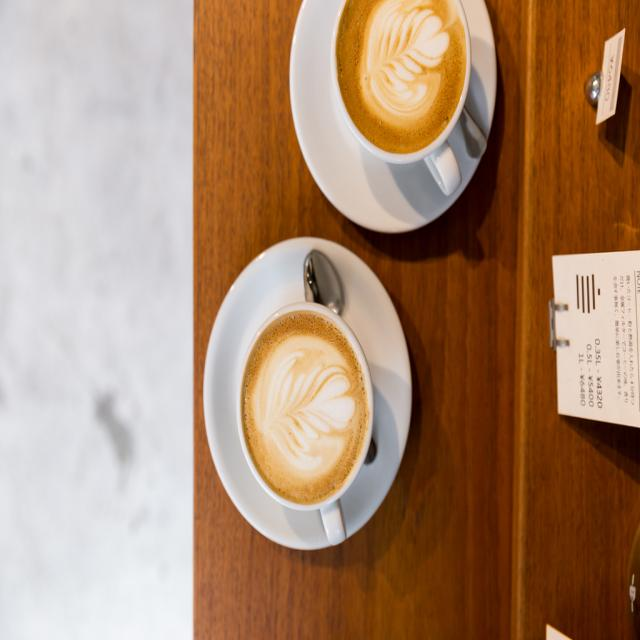Coffee: (230, 298, 378, 538), (334, 0, 468, 156)
